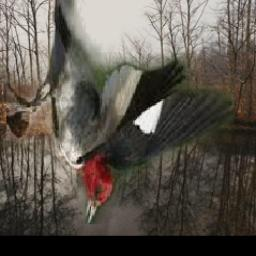Woodpecker: (5, 1, 234, 225)
